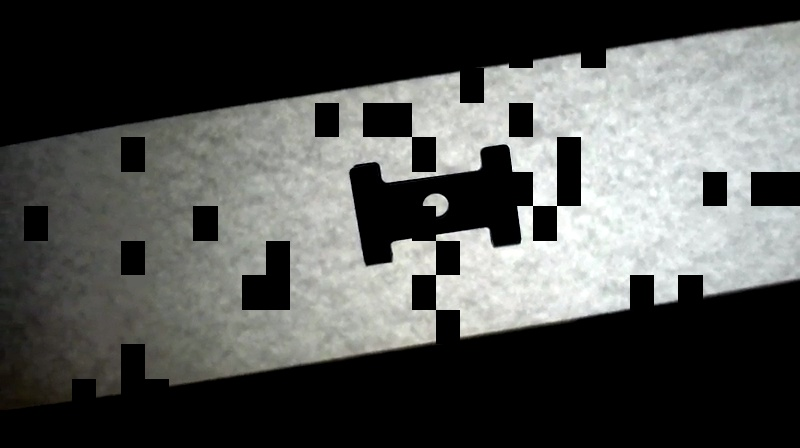O002: (346, 143, 524, 268)
